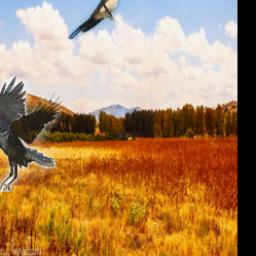Crow: (0, 76, 63, 192)
Swallow: (68, 0, 121, 39)
